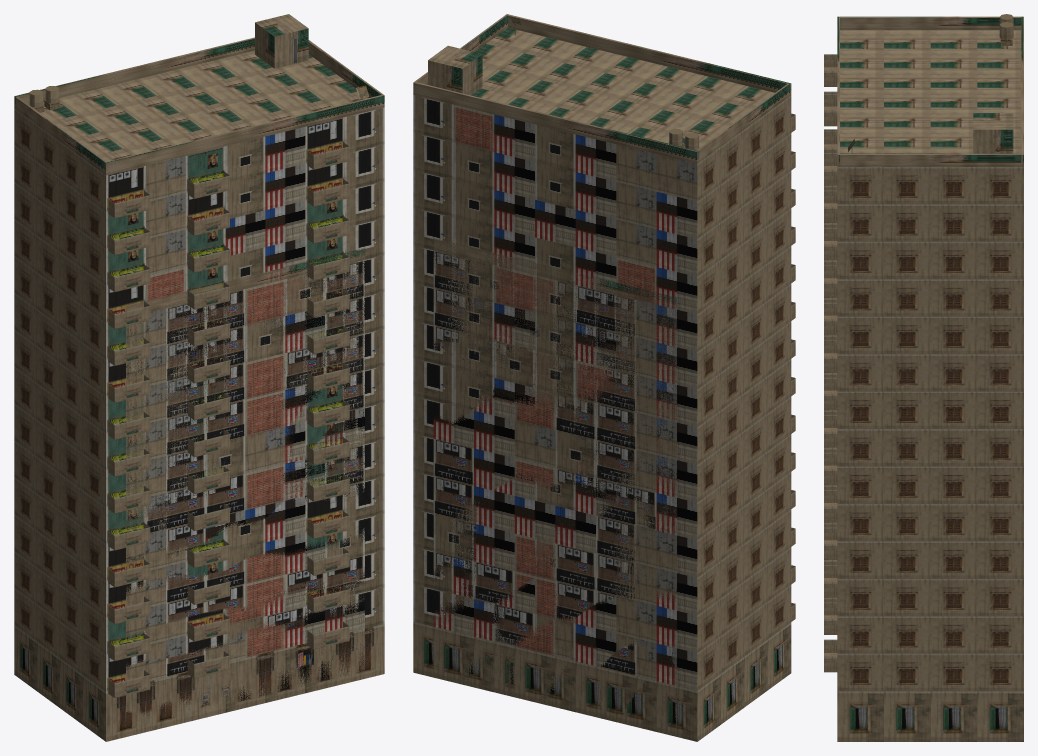
The picture shows the model from 3 angles, left to right: view 1: azimuth 30°, elevation 25°; view 2: azimuth 150°, elevation 25°; view 3: azimuth 270°, elevation 25°; orthographic projection.
Parts seen in each view (by area): view 1: Plaster_7x4_f14_v1, Plaster_6x4_f10_v0; view 2: Plaster_7x4_f14_v1, Plaster_6x4_f10_v0; view 3: Plaster_7x4_f14_v1.
Boxes of the visible parts, bbox=[...] form: Plaster_7x4_f14_v1: bbox=[14, 14, 384, 741]; Plaster_6x4_f10_v0: bbox=[126, 248, 364, 715]; Plaster_7x4_f14_v1: bbox=[413, 14, 795, 741]; Plaster_6x4_f10_v0: bbox=[433, 238, 676, 736]; Plaster_7x4_f14_v1: bbox=[824, 14, 1023, 741].
Bounding box in the file's own units: 24.5 × 50.3 × 15.
1 material, 1 textured.
